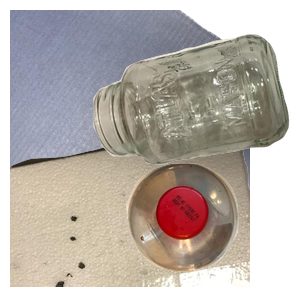cardboard: (10, 10, 250, 190)
glass: (91, 32, 300, 189)
plastic: (124, 161, 300, 300)
trash: (10, 120, 250, 300)
